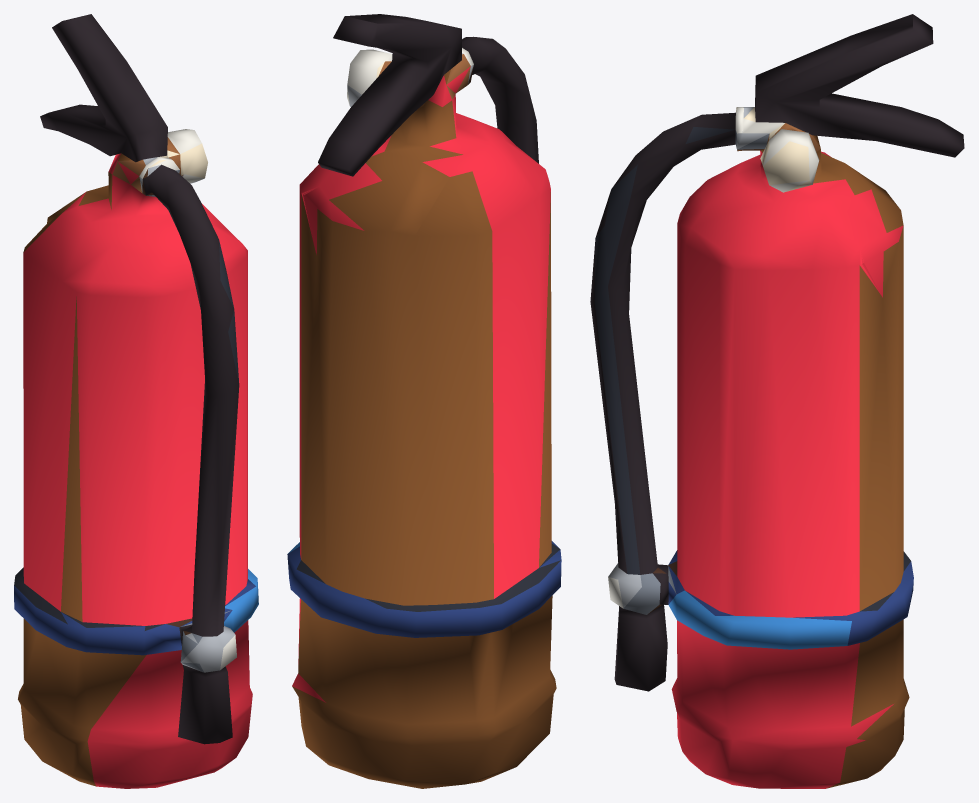
File: SM_fire_extinguisher.glb
3 renders of one model, left to right at view 1: azimuth 30°, elevation 25°; view 2: azimuth 150°, elevation 25°; view 3: azimuth 270°, elevation 25°, orthographic. The views are drawn at different scales.
Parts seen in each view (by area): view 1: SM_fire_extinguisher; view 2: SM_fire_extinguisher; view 3: SM_fire_extinguisher.
Boxes of the visible parts, bbox=[...] form: SM_fire_extinguisher: bbox=[14, 14, 258, 788]; SM_fire_extinguisher: bbox=[287, 14, 561, 788]; SM_fire_extinguisher: bbox=[590, 14, 964, 788].
Size of the model in its own units: 0.1838 by 0.6 by 0.2796.
Materials: 1 (1 with a texture image).
